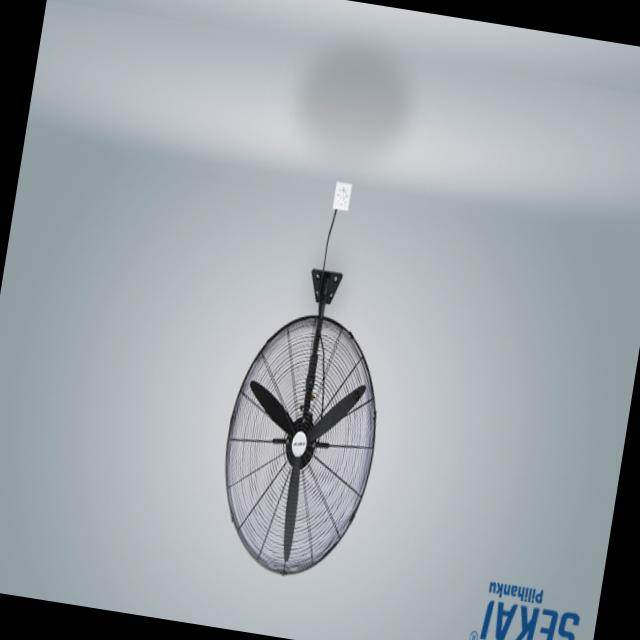fan: (184, 158, 438, 601)
